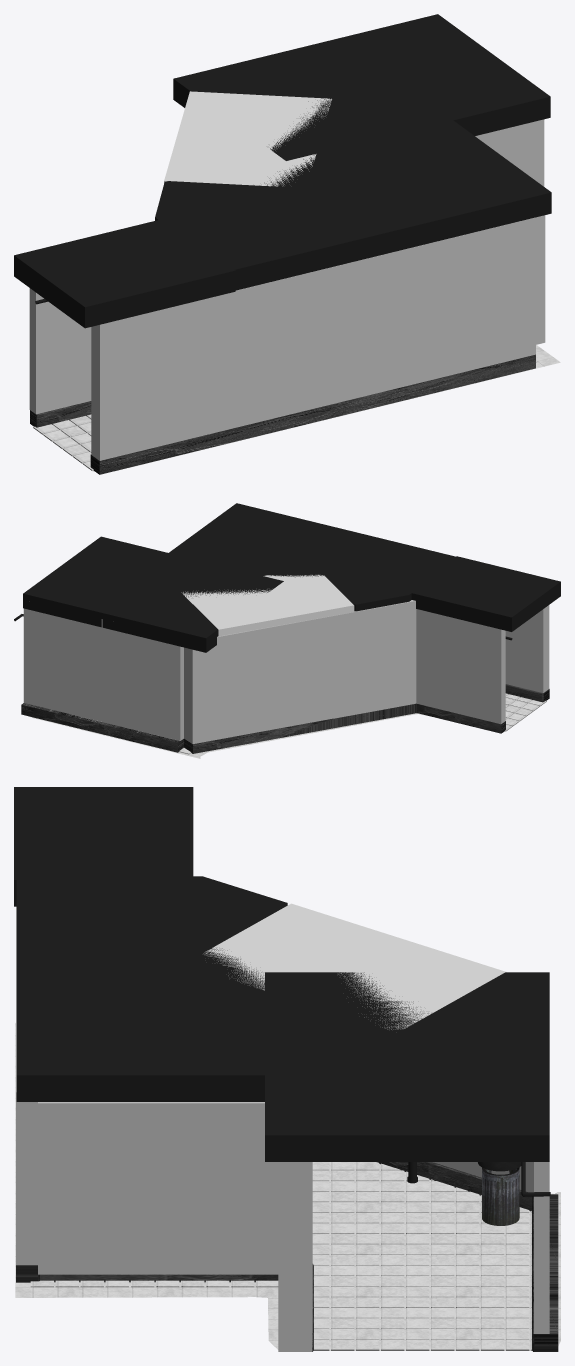
File: station2.fbx
The picture shows the model from 3 angles, top to bottom: view 1: azimuth 30°, elevation 25°; view 2: azimuth 150°, elevation 25°; view 3: azimuth 270°, elevation 25°; orthographic projection. The views are drawn at different scales.
Parts seen in each view (by area): view 1: Cube.001, Plane.016, Plane.017, Cube, Cube.002, Cube.003, Plane.011, Plane.004, Plane.002, Plane, Plane.005, Plane.015; view 2: Plane.001, Cube, Plane.006, Cube.001, Plane.004, Cube.002, Cube.003, Plane.016, Plane.012, Plane, Plane.013, Plane.014 (+2 smaller); view 3: Cube.001, Cube, Plane, Plane.005, Cube.002, Cube.003, Plane.002, Plane.017, Plane.006, Plane.022, Plane.012, Plane.003 (+2 smaller).
Part boxes in pixels (x1=…): Cube.001: x1=155, y1=120, x2=551, y2=290; Plane.016: x1=91, y1=270, x2=318, y2=460; Plane.017: x1=318, y1=217, x2=535, y2=407; Cube: x1=173, y1=14, x2=550, y2=160; Cube.002: x1=14, y1=218, x2=235, y2=328; Cube.003: x1=164, y1=91, x2=331, y2=186; Plane.011: x1=90, y1=354, x2=535, y2=474; Plane.004: x1=29, y1=288, x2=91, y2=414; Plane.002: x1=475, y1=119, x2=544, y2=186; Plane: x1=33, y1=345, x2=560, y2=471; Plane.005: x1=536, y1=215, x2=545, y2=344; Plane.015: x1=30, y1=401, x2=91, y2=427; Plane.001: x1=184, y1=600, x2=416, y2=743; Cube: x1=23, y1=536, x2=283, y2=652; Plane.006: x1=23, y1=608, x2=183, y2=740; Cube.001: x1=169, y1=503, x2=455, y2=611; Plane.004: x1=416, y1=609, x2=505, y2=724; Cube.002: x1=408, y1=556, x2=560, y2=631; Cube.003: x1=181, y1=574, x2=354, y2=636; Plane.016: x1=505, y1=605, x2=549, y2=692; Plane.012: x1=21, y1=703, x2=183, y2=752; Plane: x1=29, y1=693, x2=546, y2=758; Plane.013: x1=184, y1=718, x2=332, y2=753; Plane.014: x1=279, y1=703, x2=416, y2=738; Cube.001: x1=16, y1=876, x2=287, y2=1101; Cube: x1=265, y1=972, x2=549, y2=1161; Plane: x1=15, y1=1023, x2=560, y2=1350; Plane.005: x1=38, y1=1102, x2=278, y2=1274; Cube.002: x1=14, y1=787, x2=193, y2=906; Cube.003: x1=203, y1=903, x2=505, y2=1029; Plane.002: x1=278, y1=1162, x2=312, y2=1351; Plane.017: x1=16, y1=958, x2=37, y2=1265; Plane.006: x1=534, y1=1162, x2=549, y2=1333; Plane.022: x1=478, y1=1162, x2=521, y2=1225; Plane.012: x1=532, y1=1194, x2=558, y2=1351; Plane.003: x1=40, y1=1274, x2=278, y2=1282.
Bounding box in the file's own units: 3057 × 897 × 1983.
